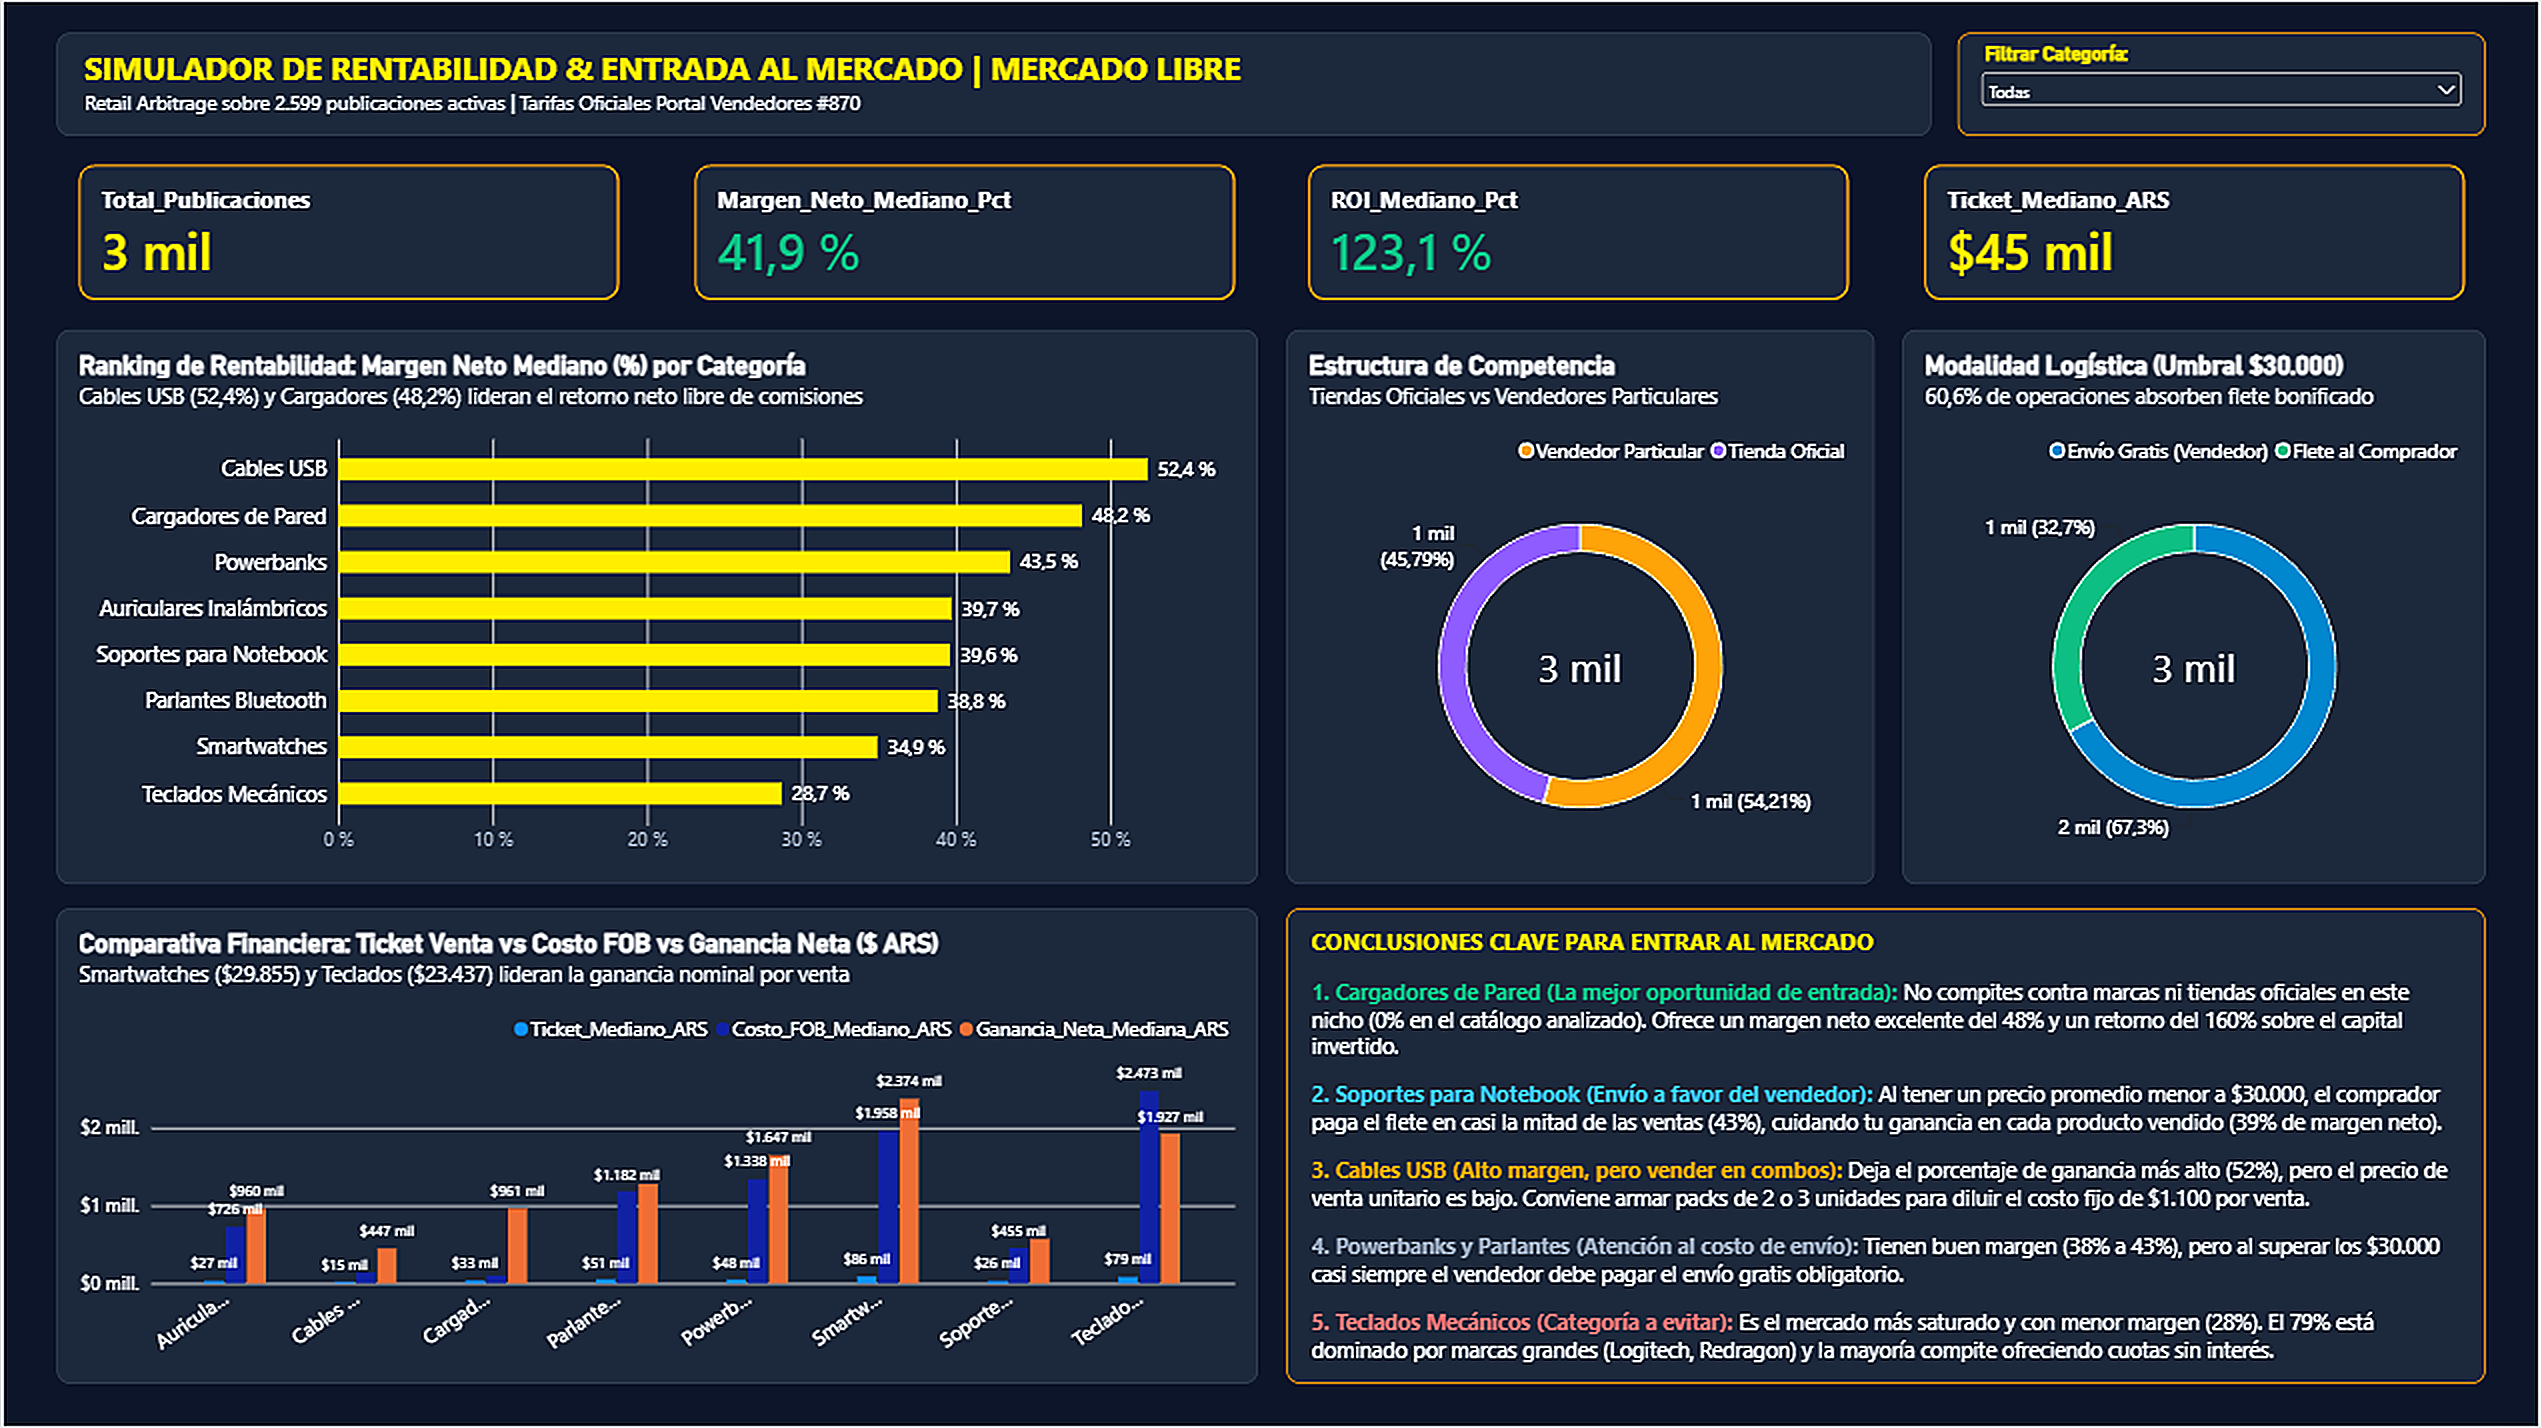

Layout of this report page (visuals, bound fields, positions):
{"tool":"powerbi","page":{"name":"Dashboard MELI","canvas":[1920,1080],"ordinal":0},"visuals":[{"type":"textbox","box":[40,24,1420,78],"z":0},{"type":"cardVisual","fields":{"Data":["simulador_meli_dataset_final.Total_Publicaciones"]},"box":[40,116,442,115],"z":1000},{"type":"cardVisual","fields":{"Data":["simulador_meli_dataset_final.Margen_Neto_Mediano_Pct"]},"box":[506,116,442,115],"z":2000},{"type":"cardVisual","fields":{"Data":["simulador_meli_dataset_final.ROI_Mediano_Pct"]},"box":[972,116,442,115],"z":3000},{"type":"cardVisual","fields":{"Data":["simulador_meli_dataset_final.Ticket_Mediano_ARS"]},"box":[1438,116,442,115],"z":4000},{"type":"clusteredBarChart","title":"Ranking de Rentabilidad: Margen Neto Mediano (%) por Categoría","fields":{"Category":["simulador_meli_dataset_final.Categoria"],"Y":["simulador_meli_dataset_final.Margen_Neto_Mediano_Pct"]},"box":[40,248,910,420],"z":5000},{"type":"donutChart","title":"Estructura de Competencia","fields":{"Category":["simulador_meli_dataset_final.Tipo_Vendedor"],"Y":["simulador_meli_dataset_final.Total_Publicaciones"]},"box":[972,248,445,420],"z":6000},{"type":"donutChart","title":"Modalidad Logística (Umbral $30.000)","fields":{"Category":["simulador_meli_dataset_final.Modalidad_Envio"],"Y":["simulador_meli_dataset_final.Total_Publicaciones"]},"box":[1438,248,442,420],"z":7000},{"type":"clusteredColumnChart","title":"Comparativa Financiera: Ticket Venta vs Costo FOB vs Ganancia Neta ($ ARS)","fields":{"Category":["simulador_meli_dataset_final.Categoria"],"Y":["simulador_meli_dataset_final.Ticket_Mediano_ARS","simulador_meli_dataset_final.Costo_FOB_Mediano_ARS","simulador_meli_dataset_final.Ganancia_Neta_Mediana_ARS"]},"box":[40,686,910,360],"z":8000},{"type":"textbox","box":[972,686,908,360],"z":9000},{"type":"slicer","fields":{"Values":["simulador_meli_dataset_final.Categoria"]},"box":[1480,24,400,78],"z":10000}]}

Visuals, with their boxes in screenshot pixels (x1, y1, x2, y2), scaled from the page's 1920x1080 canvas onto the 2542x1428 screenshot:
textbox: (x1=53, y1=32, x2=1933, y2=135)
cardVisual - simulador_meli_dataset_final.Total_Publicaciones: (x1=53, y1=153, x2=638, y2=305)
cardVisual - simulador_meli_dataset_final.Margen_Neto_Mediano_Pct: (x1=670, y1=153, x2=1255, y2=305)
cardVisual - simulador_meli_dataset_final.ROI_Mediano_Pct: (x1=1287, y1=153, x2=1872, y2=305)
cardVisual - simulador_meli_dataset_final.Ticket_Mediano_ARS: (x1=1904, y1=153, x2=2489, y2=305)
"Ranking de Rentabilidad: Margen Neto Mediano (%) por Categoría" clusteredBarChart: (x1=53, y1=328, x2=1258, y2=883)
"Estructura de Competencia" donutChart: (x1=1287, y1=328, x2=1876, y2=883)
"Modalidad Logística (Umbral $30.000)" donutChart: (x1=1904, y1=328, x2=2489, y2=883)
"Comparativa Financiera: Ticket Venta vs Costo FOB vs Ganancia Neta ($ ARS)" clusteredColumnChart: (x1=53, y1=907, x2=1258, y2=1383)
textbox: (x1=1287, y1=907, x2=2489, y2=1383)
slicer - simulador_meli_dataset_final.Categoria: (x1=1959, y1=32, x2=2489, y2=135)
